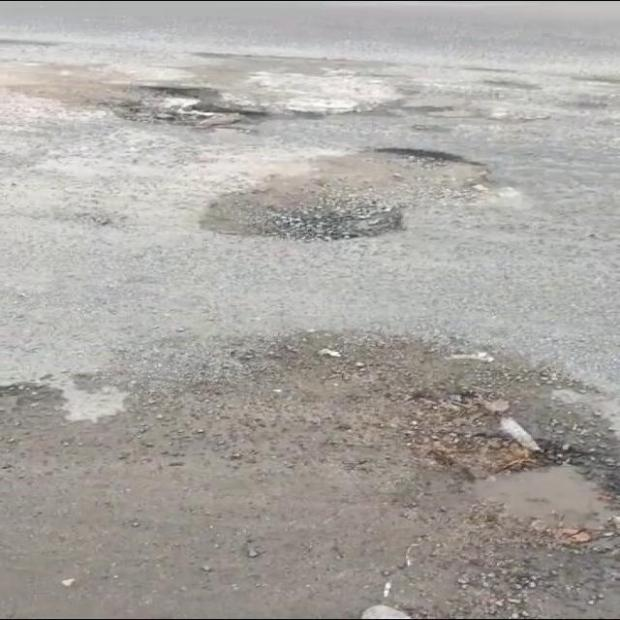lubang: (408, 391, 619, 543), (201, 148, 488, 239), (105, 85, 268, 128)
